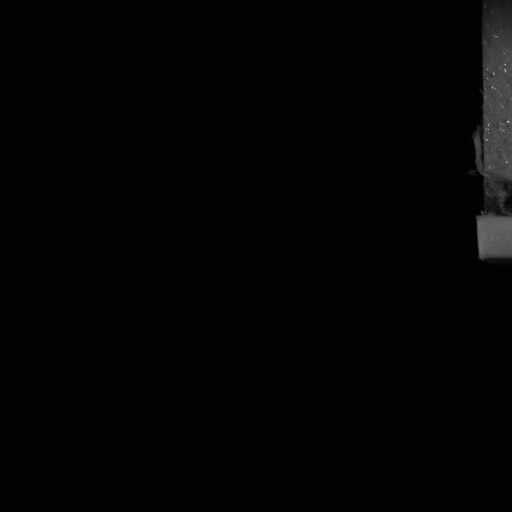bengque: (479, 165, 511, 219)
